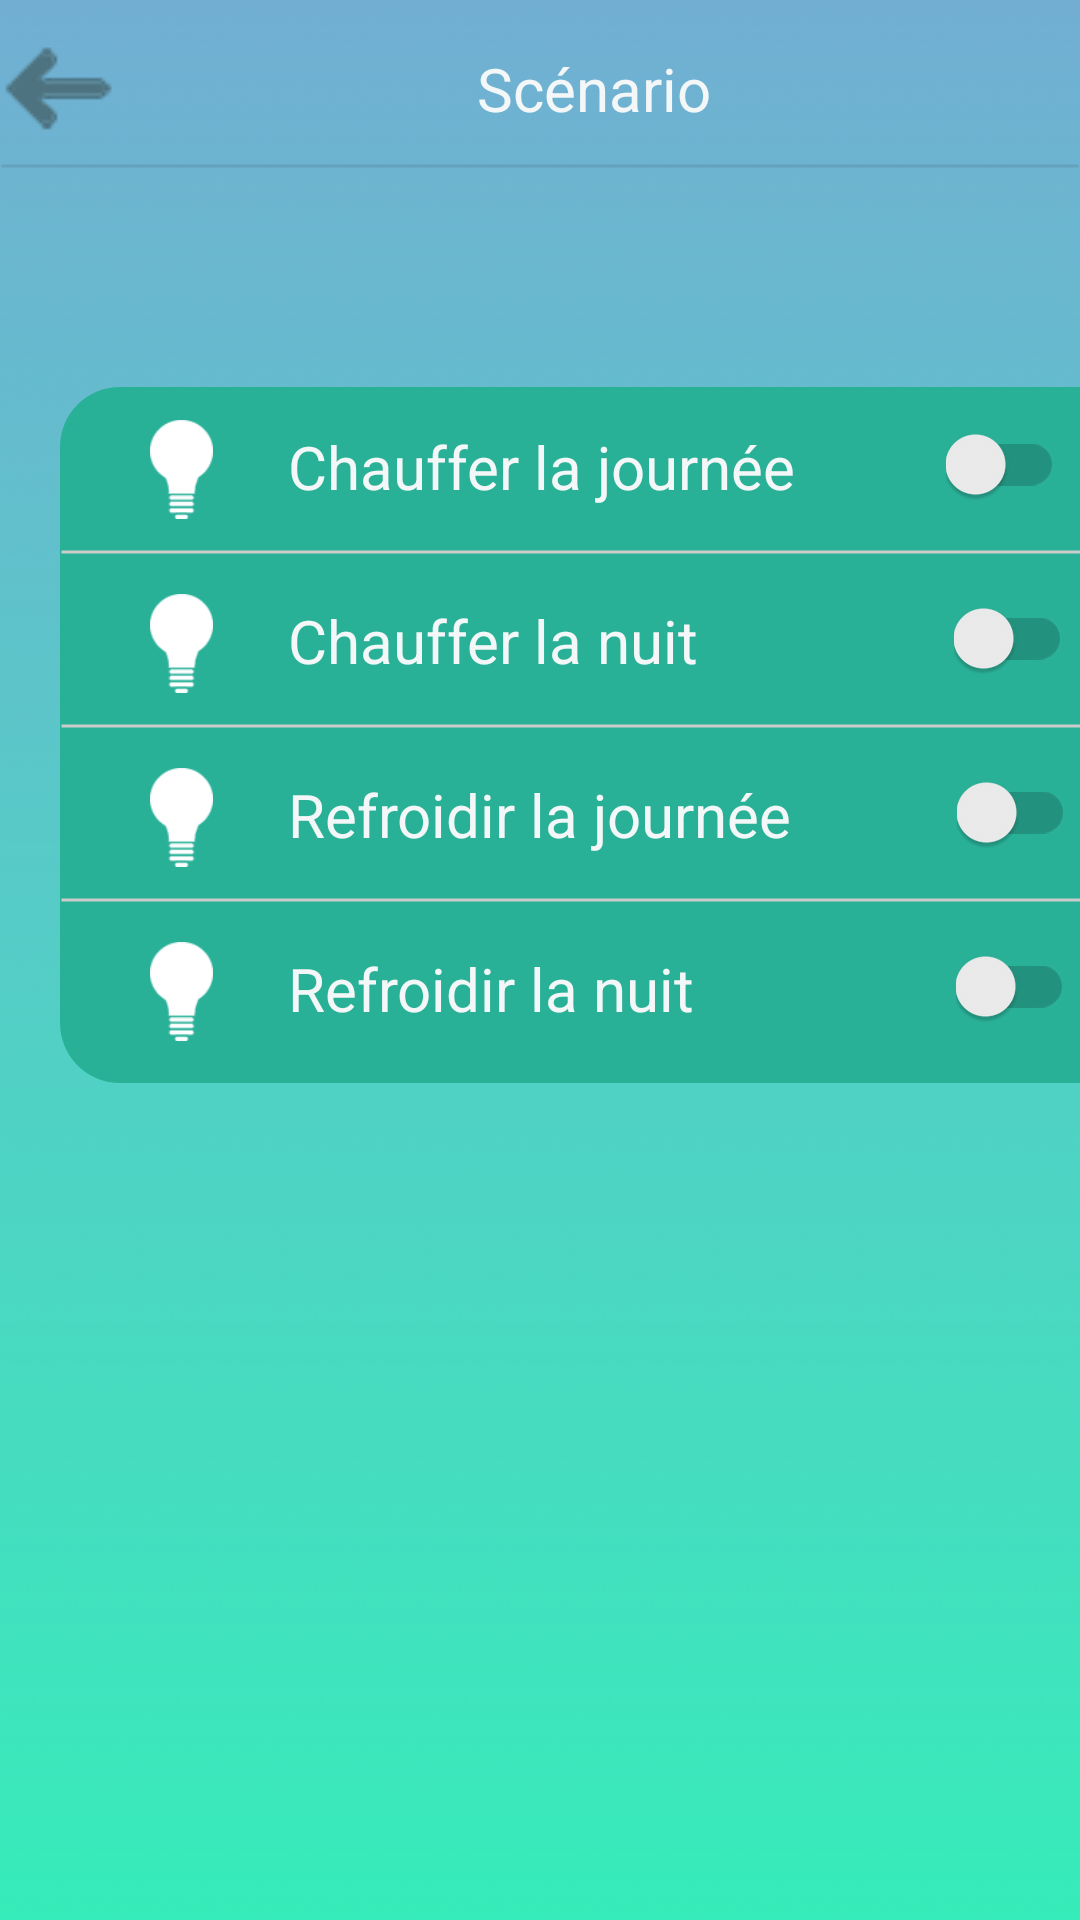

Named icons in this screenshot (1080*1920) and their bounding boxes, (x1, y1, x2, y2):
ampoule: (150, 420, 213, 519), (150, 594, 213, 693), (150, 768, 213, 867), (150, 942, 213, 1041)
back: (6, 48, 111, 130)
